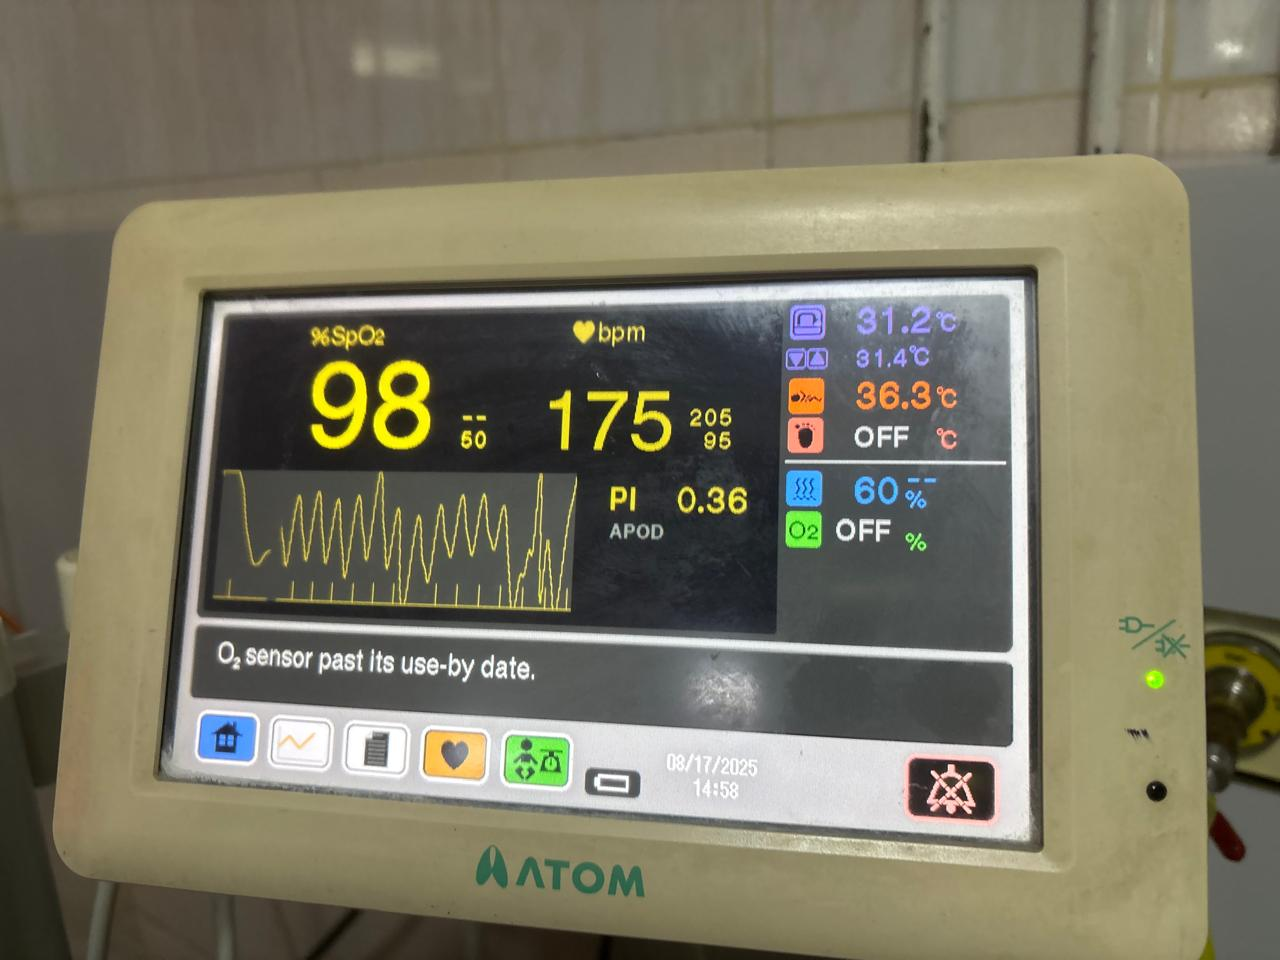heart_rate_value: (531, 384, 681, 465)
humidity_value: (839, 465, 902, 509)
skin_temp_value: (844, 375, 934, 419)
spo2_value: (299, 350, 442, 462)
